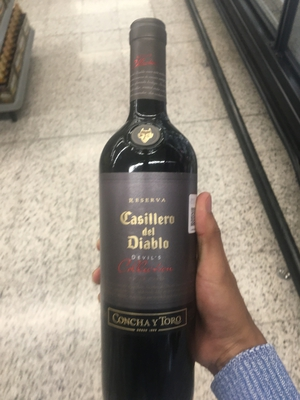casillero del diablo devils collection rojo: (99, 25, 206, 400)
